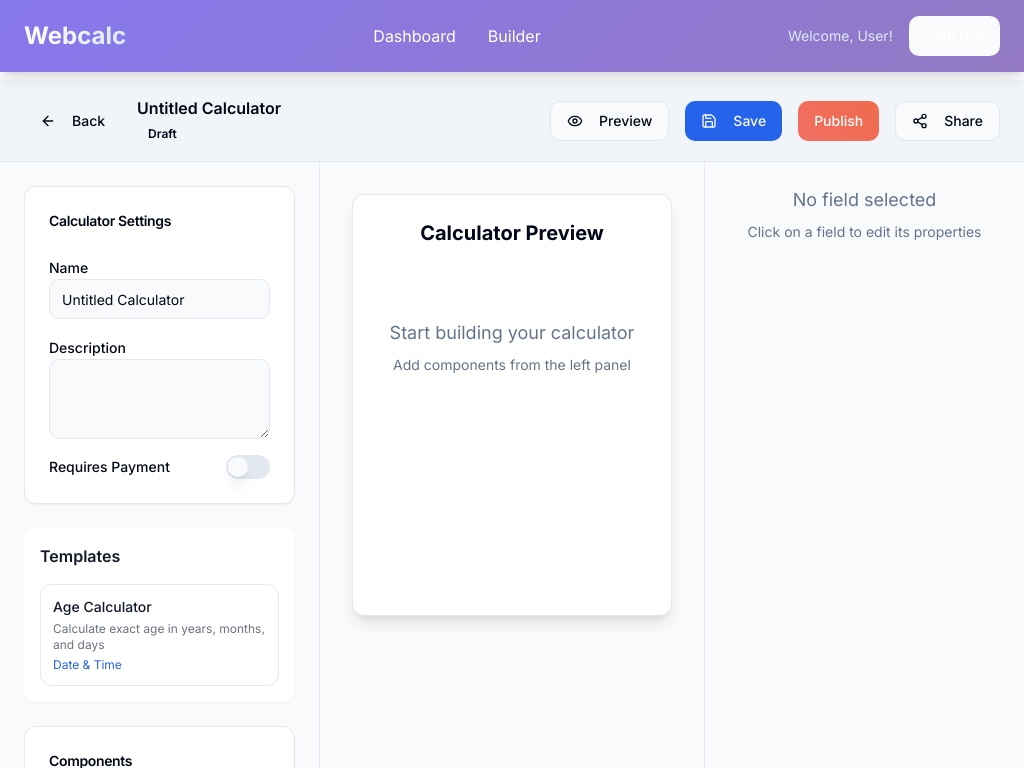
Test case: Builder › handles payment settings
What coordinates should you click on to do the following:
click the switch with test id "switch-requires-payment"
I would click on:
 (248, 467)
Its box is 226,455 -> 270,479.
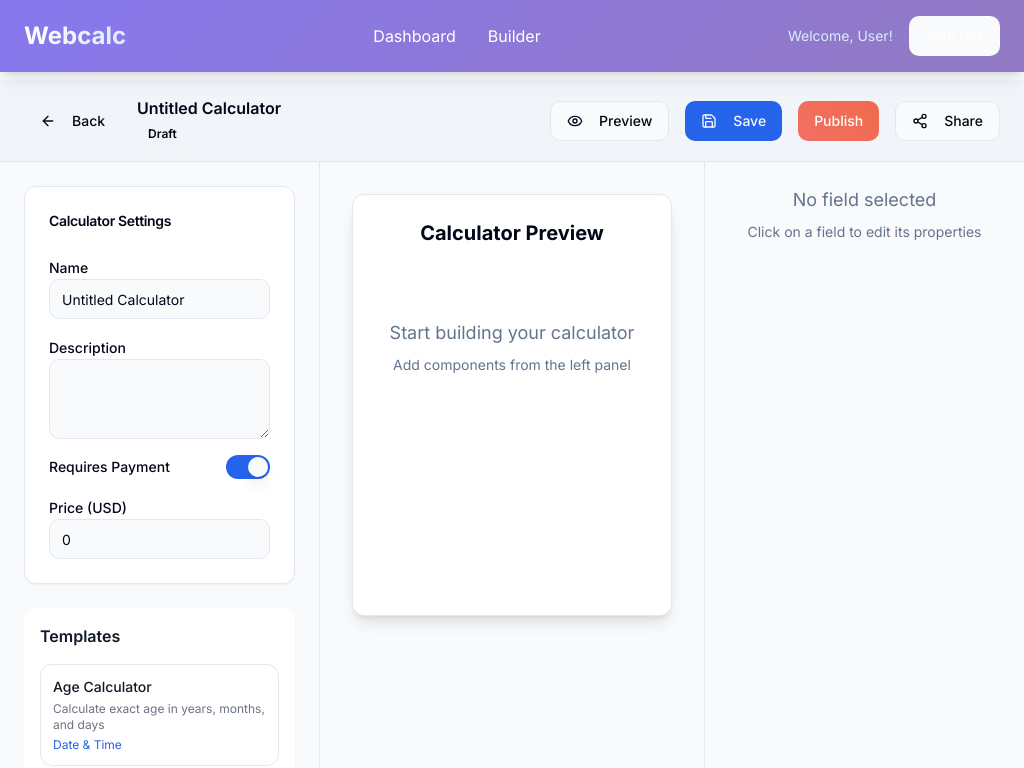
Now the number field with test id "input-price" is shown, box 49,519 -> 270,559
